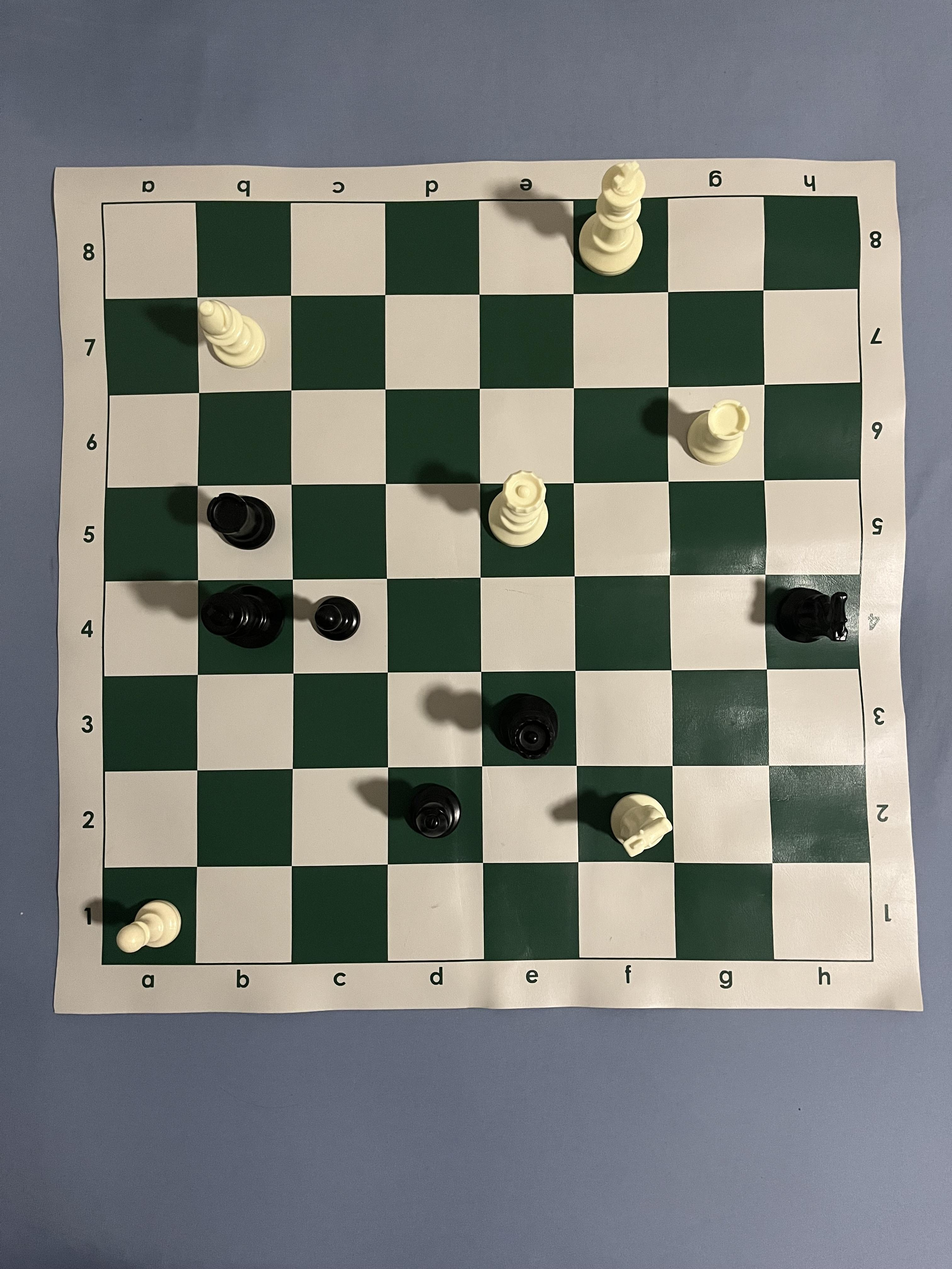black_bishop: (408, 783, 462, 840)
black_king: (200, 585, 285, 649)
black_knight: (774, 587, 850, 644)
black_pawn: (314, 596, 361, 642)
black_queen: (493, 693, 559, 761)
black_rook: (207, 492, 276, 551)
white_bishop: (198, 299, 267, 369)
white_king: (578, 161, 646, 276)
white_knight: (610, 792, 673, 858)
white_pawn: (115, 899, 183, 954)
white_queen: (488, 469, 549, 548)
white_rook: (687, 400, 751, 466)
